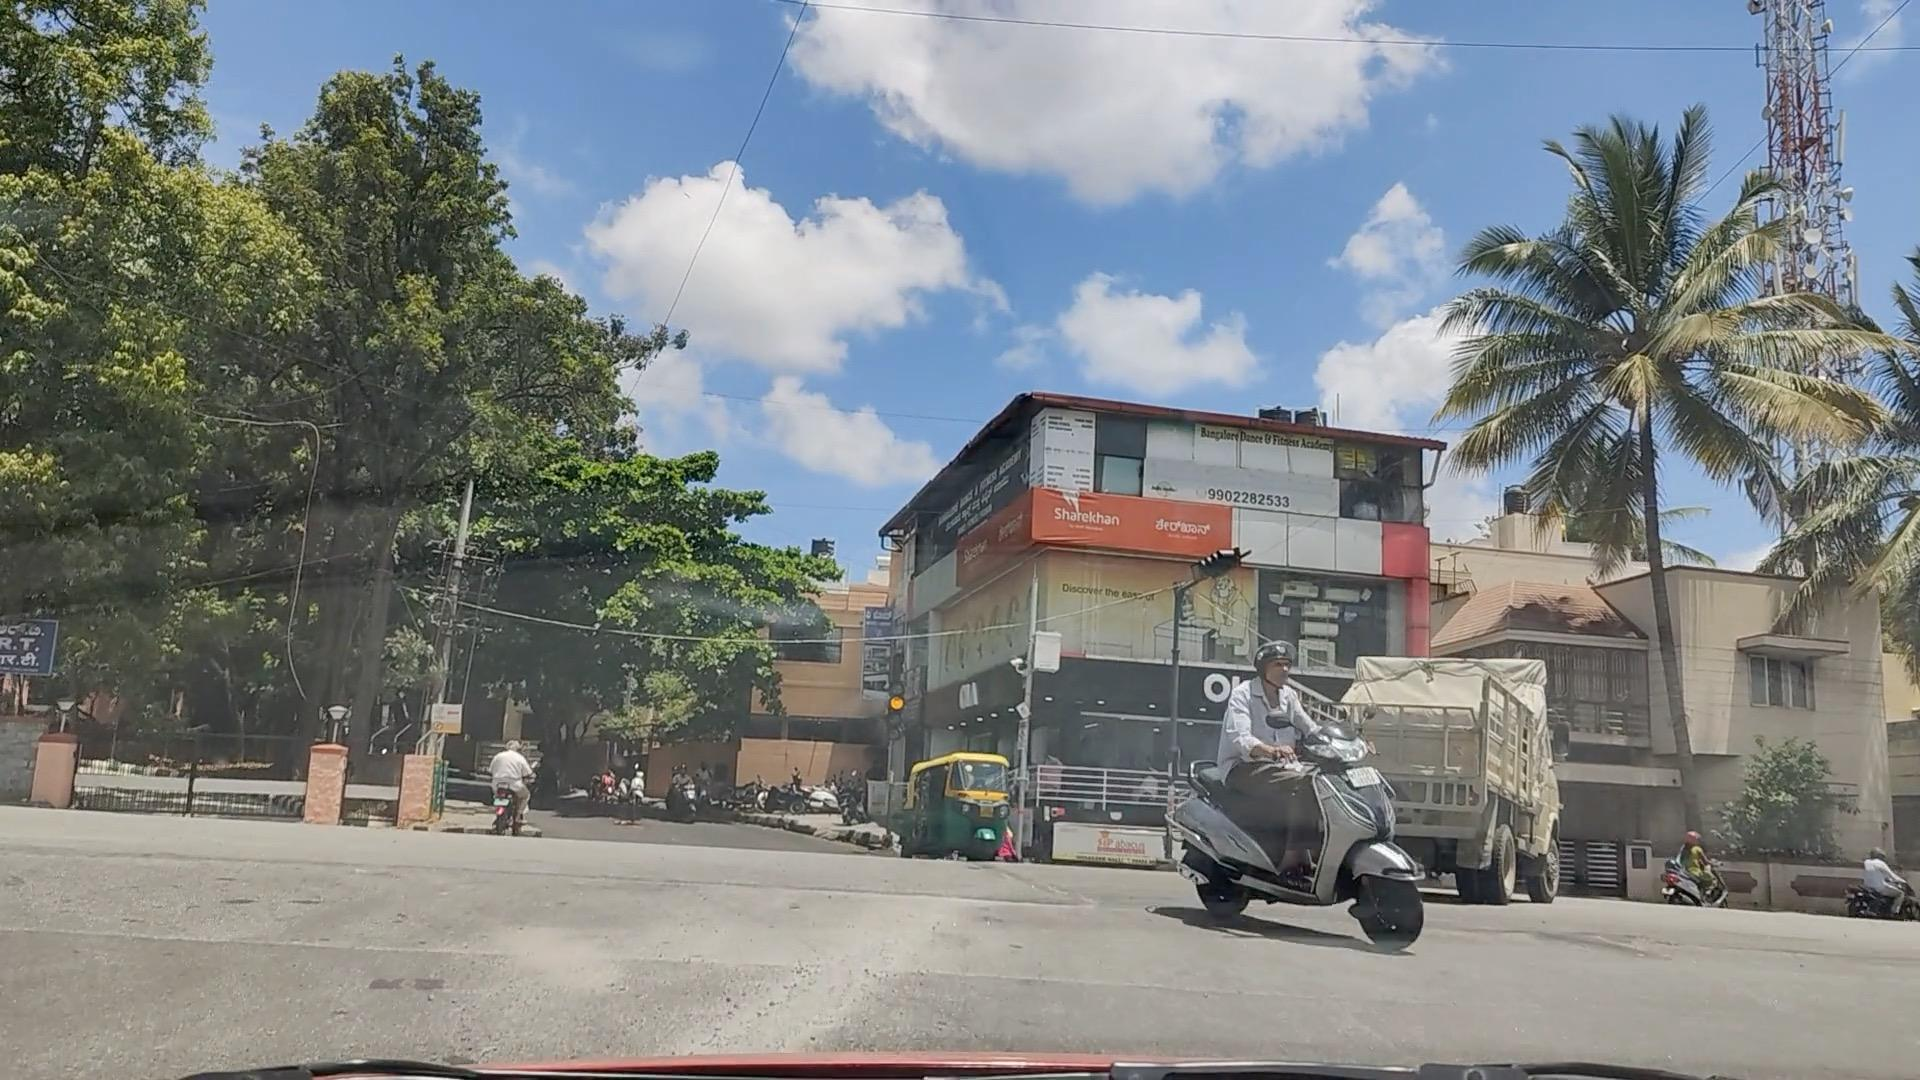LMV: (1187, 659, 1414, 940), (903, 737, 1006, 847)
